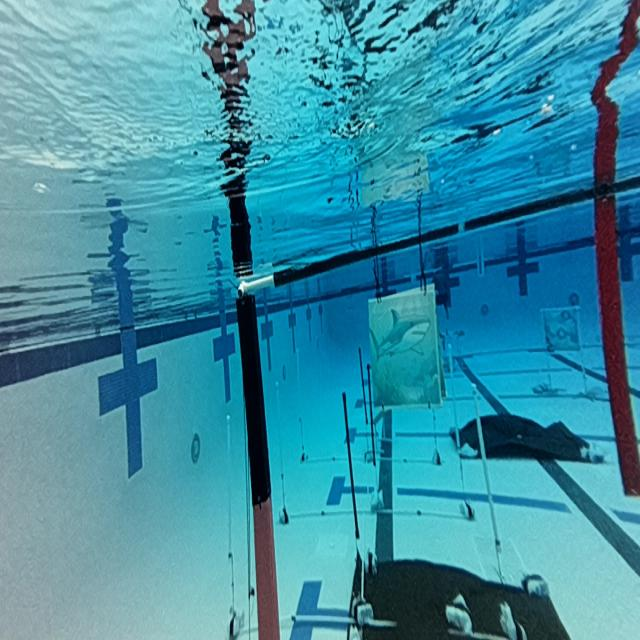round_nose: (369, 292, 440, 407)
